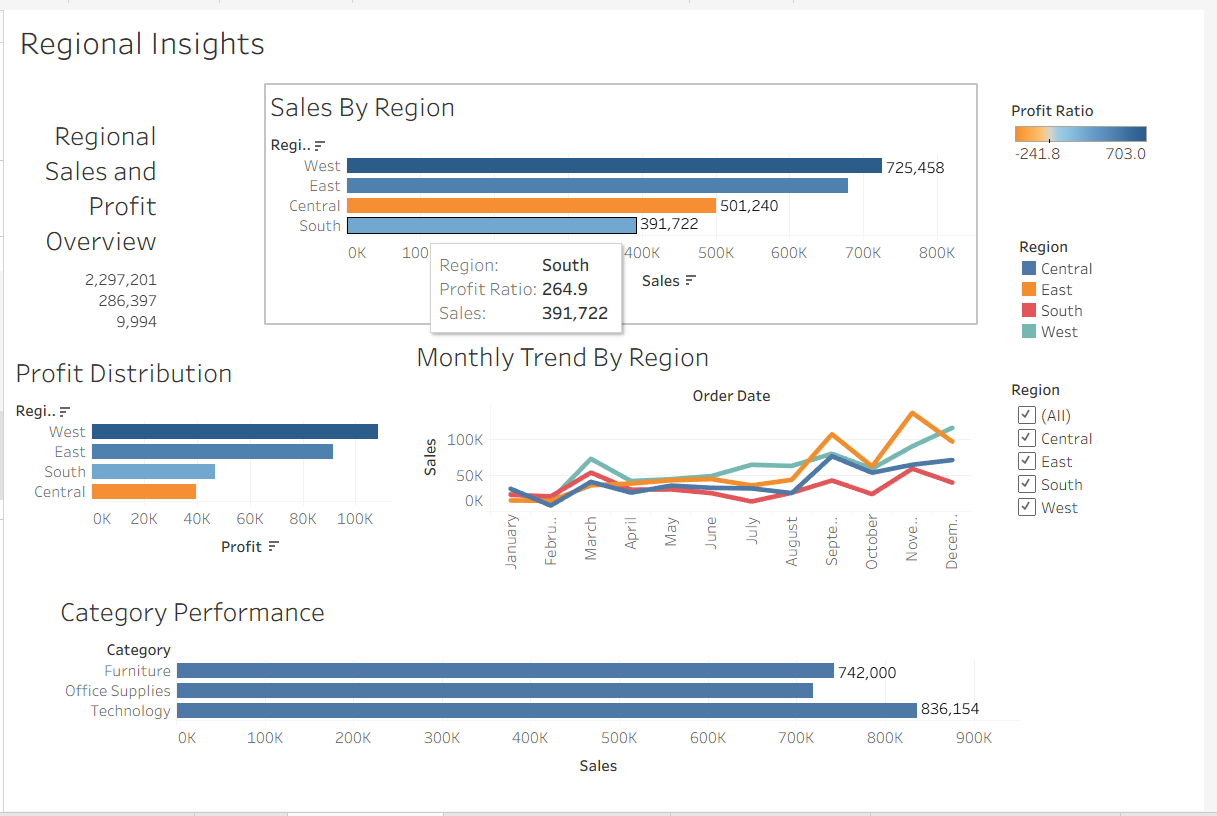

The dashboard page shown, as its layout file describes it:
{"tool":"tableau","page":{"name":"Regional Insights","canvas":[1000,1000],"units":"permille","ordinal":2},"visuals":[{"type":"title","box":[6.7,10,986.7,62.4]},{"type":"worksheet","title":"Sales By Region","mark":"Automatic","rows":["Region"],"cols":["Sales"],"box":[218.3,94.8,591.7,296.8]},{"type":"legend","title":"Sales By Region","param":"[federated.1n9v9gz08qjdn91aausmd1yoojvh].[sum:Calculation_2120351010008698880:qk","box":[839.2,113.5,116.7,109.7]},{"type":"worksheet","title":"Region KPI","mark":"Automatic","box":[7.5,130.9,208.3,303]},{"type":"legend","title":"Monthly Sales Trend By Region","param":"[federated.1n9v9gz08qjdn91aausmd1yoojvh].[none:Region:nk]","box":[845.8,283,116.7,132.2]},{"type":"worksheet","title":"Monthly Sales Trend By Region","mark":"Automatic","rows":["Sales"],"cols":["Order Date"],"box":[340,406.5,466.7,294.3]},{"type":"worksheet","title":"Profit By Region","mark":"Automatic","rows":["Region"],"cols":["Profit"],"box":[5.8,426.4,317.5,266.8]},{"type":"filter","title":"Category Sales Within Each Region","param":"[federated.1n9v9gz08qjdn91aausmd1yoojvh].[none:Region:nk]","box":[839.2,461.4,133.3,178.3]},{"type":"worksheet","title":"Category Sales Within Each Region","mark":"Automatic","rows":["Category"],"cols":["Sales"],"box":[43.3,724.4,804.2,261.9]}]}

Visuals, with their boxes on the dashboard's canvas, which has no fixed pixel size, in thousandths of its width and height (x1, y1, x2, y2). These are canvas units, not pixel positions in the 1217x816 screenshot, which may show the page scaled, cropped or inside an application window:
title: 7/10/993/72
"Sales By Region" worksheet: 218/95/810/392
"Sales By Region" legend: 839/114/956/223
"Region KPI" worksheet: 8/131/216/434
"Monthly Sales Trend By Region" legend: 846/283/962/415
"Monthly Sales Trend By Region" worksheet: 340/406/807/701
"Profit By Region" worksheet: 6/426/323/693
"Category Sales Within Each Region" filter: 839/461/972/640
"Category Sales Within Each Region" worksheet: 43/724/848/986
